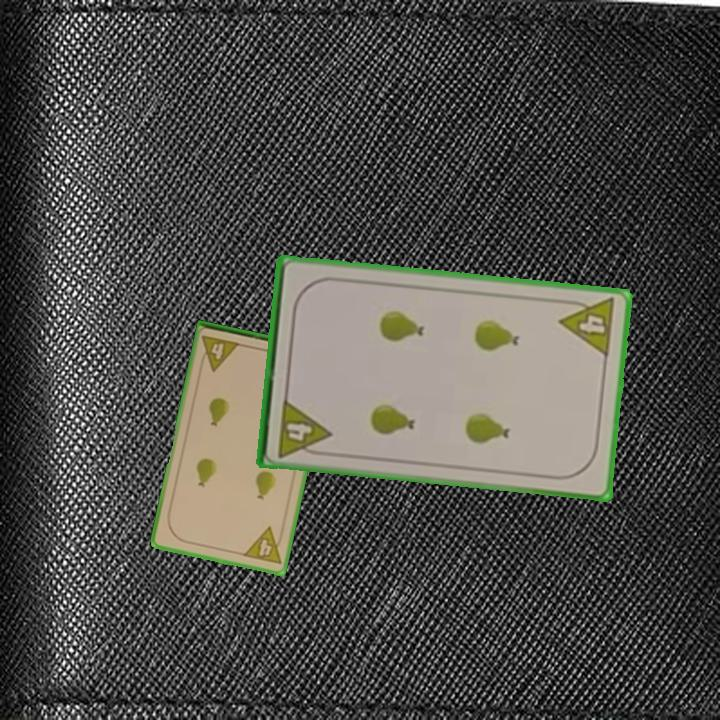4p: (556, 294, 619, 360), (274, 395, 333, 460), (240, 523, 287, 568), (196, 332, 243, 374)
